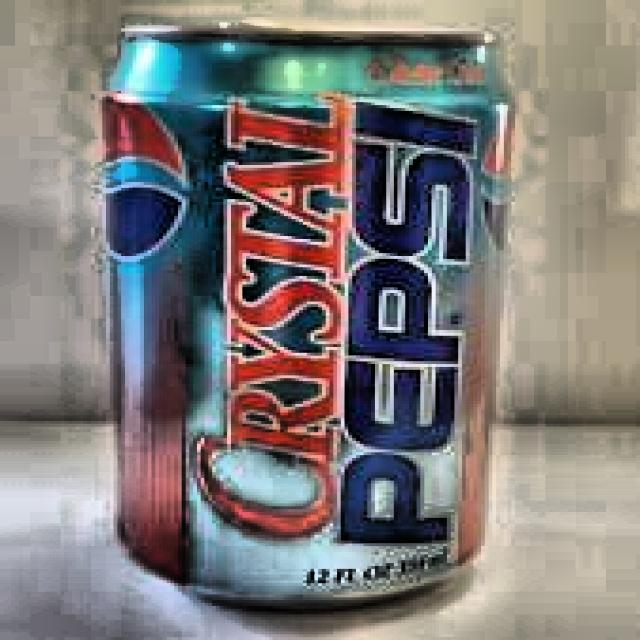Cans: (82, 19, 525, 621)
